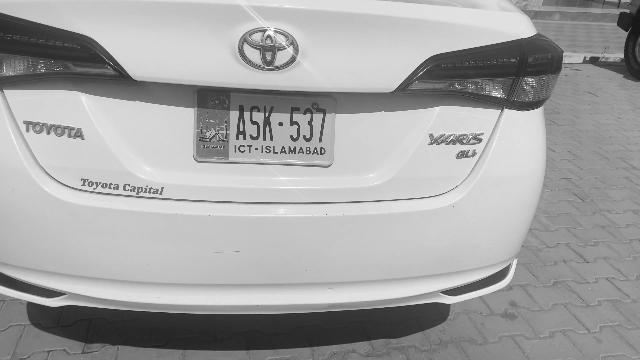Number: (234, 102, 326, 146)
